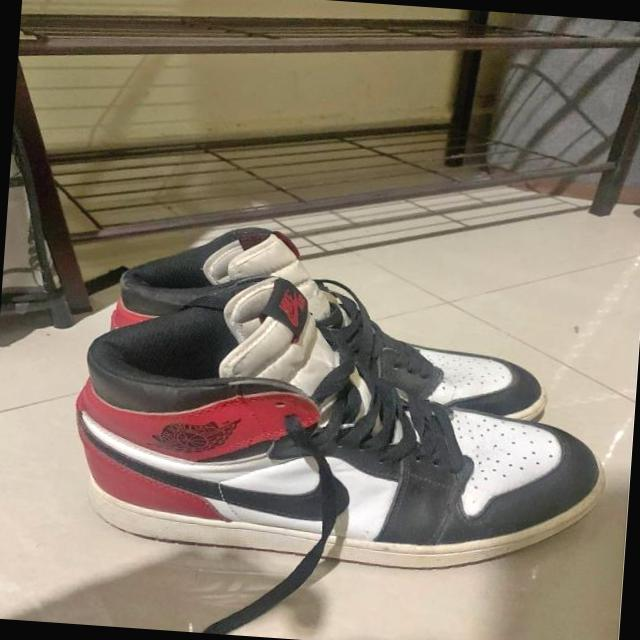nike_fake_jordan: (59, 264, 614, 582), (99, 215, 566, 430)
